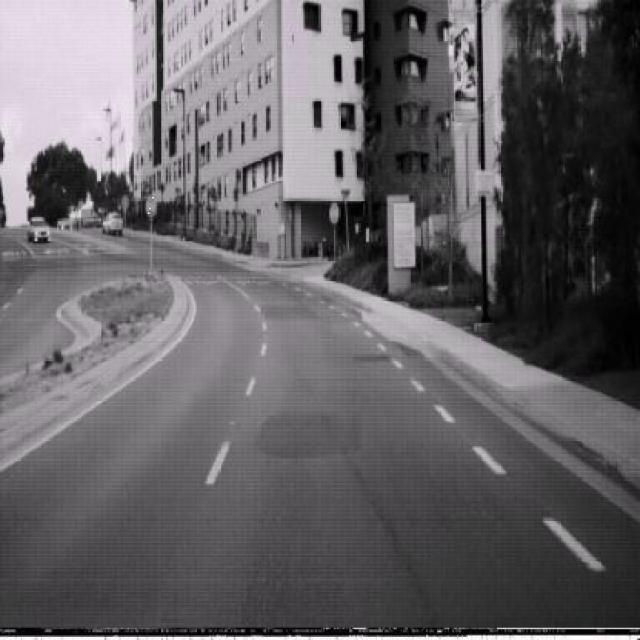stop: (144, 197, 156, 221), (329, 202, 339, 224)
